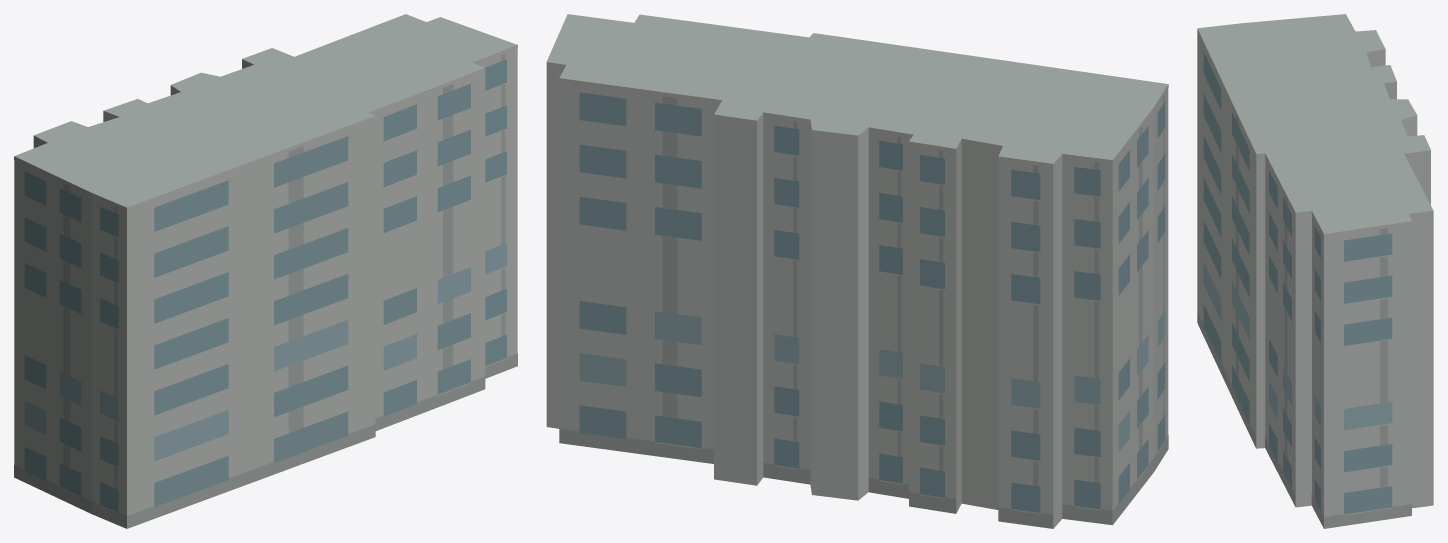
Rendered from survey-upis-33003573.glb.
3 views of the same model, side by side, from view 1: azimuth 30°, elevation 25°; view 2: azimuth 150°, elevation 25°; view 3: azimuth 270°, elevation 25° (orthographic). The views are drawn at different scales.
Parts seen in each view (by area): view 1: survey-upis-33003573.tmp; view 2: survey-upis-33003573.tmp; view 3: survey-upis-33003573.tmp.
Boxes of the visible parts, x1,y1,x2,y2 form: survey-upis-33003573.tmp: (14, 14, 517, 528); survey-upis-33003573.tmp: (546, 14, 1168, 528); survey-upis-33003573.tmp: (1197, 14, 1433, 528).
Size of the model in its own units: 34.2 by 21.35 by 15.51.
